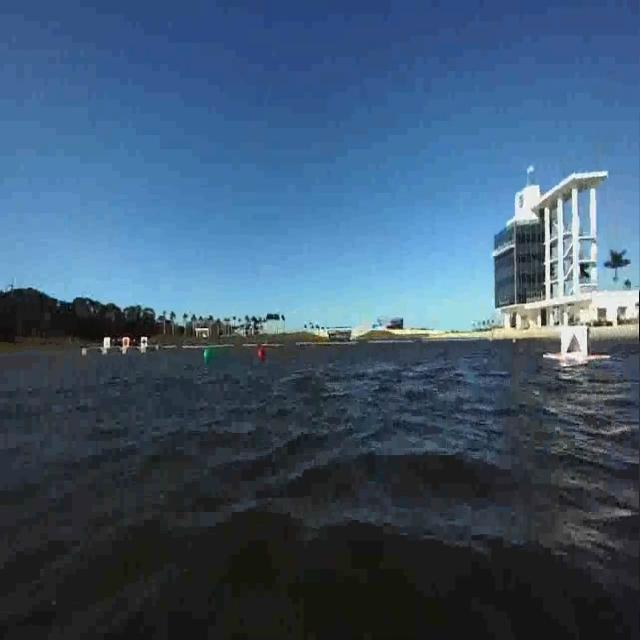red-buoy: (258, 347, 264, 362)
yellow-buoy: (80, 347, 88, 359)
